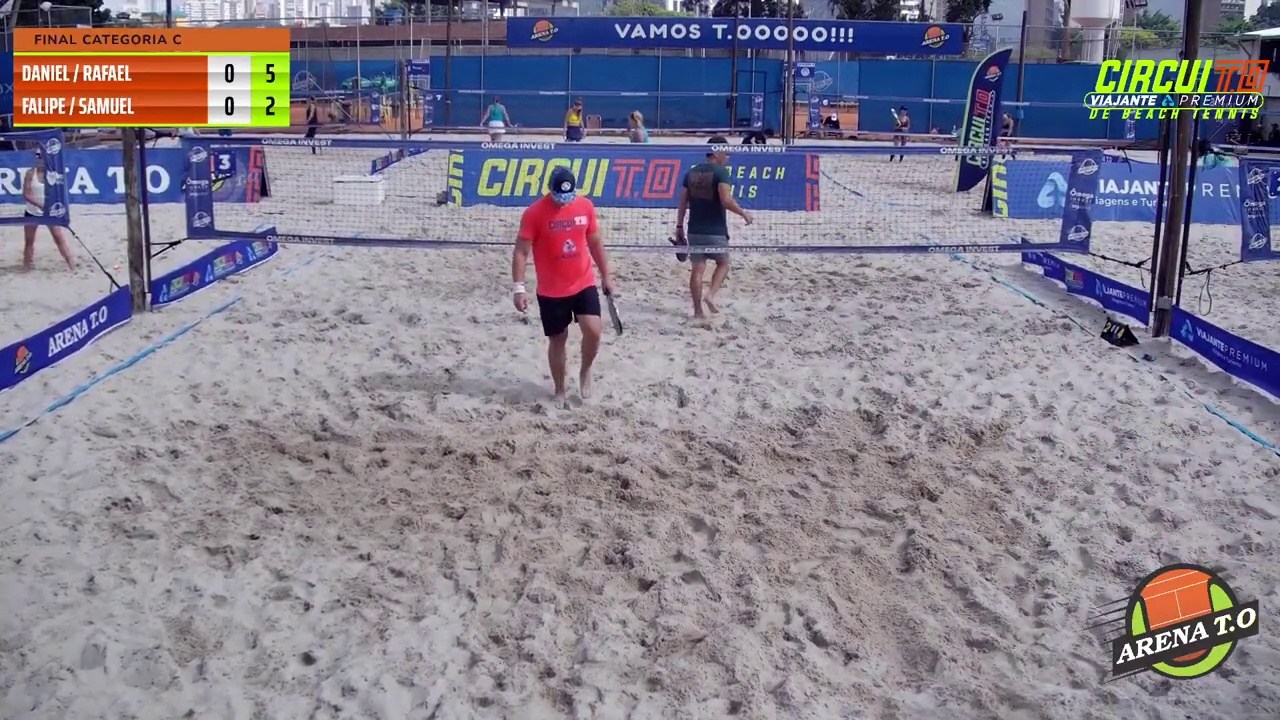court_line: (640, 0, 801, 504)
